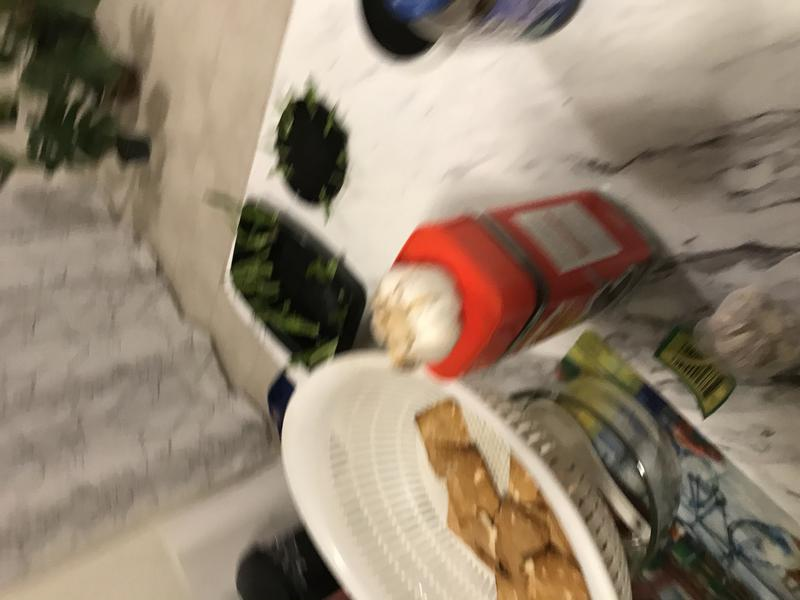garlic: (363, 265, 464, 379)
